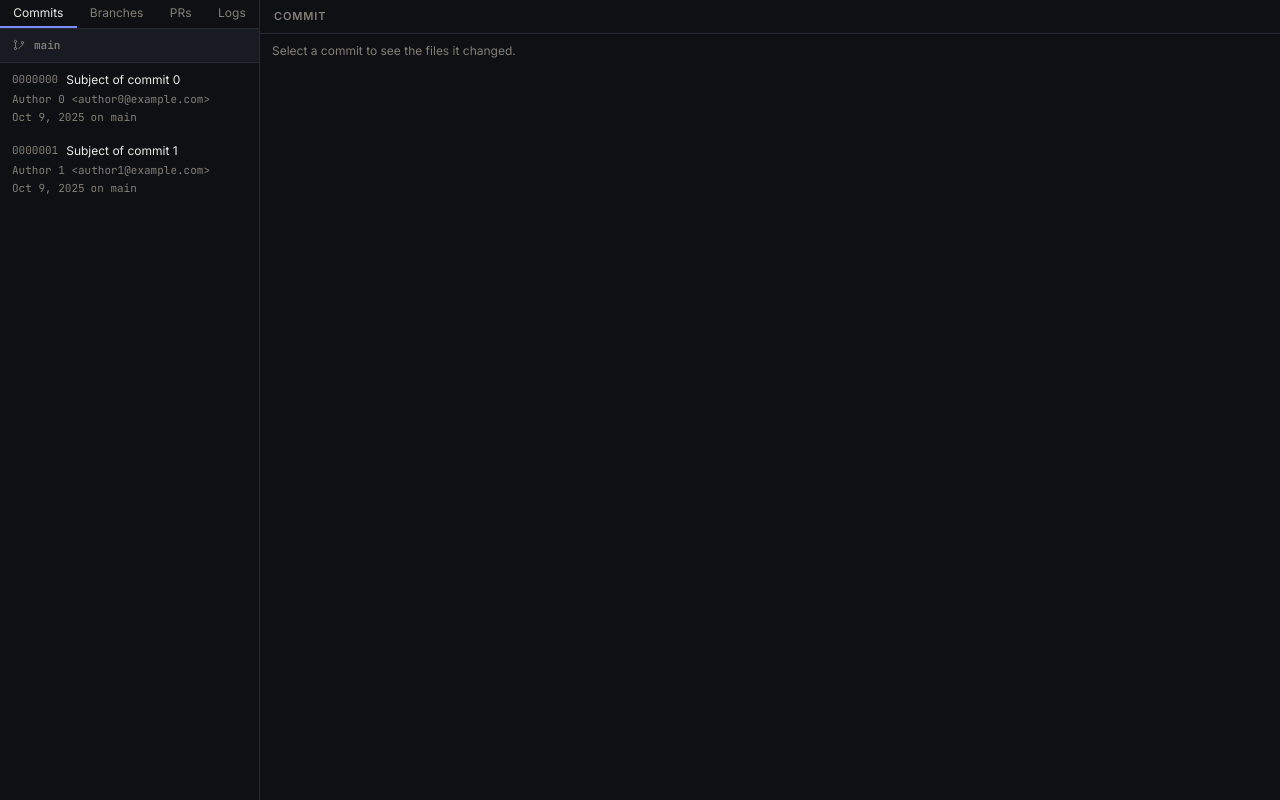
Test case: selecting a branch (GIT-FR-LNEI) › GIT-FR-LNEI: the selection stays while the Local / Remote switch changes
Click the tab "Branches" at (117, 12), box [90, 5, 143, 20]
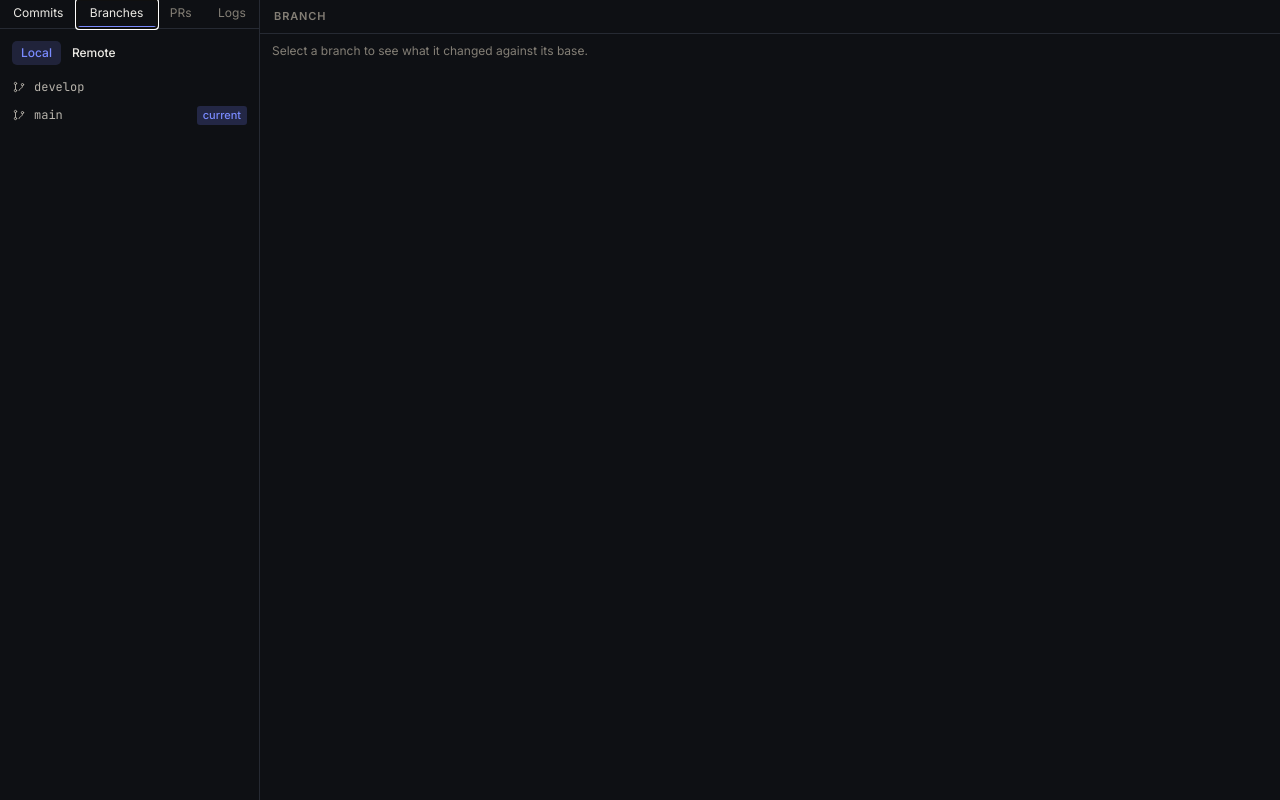
Now the text "develop" is shown, box [34, 79, 84, 95]
Click the button "develop" at (48, 87), box [12, 79, 84, 95]
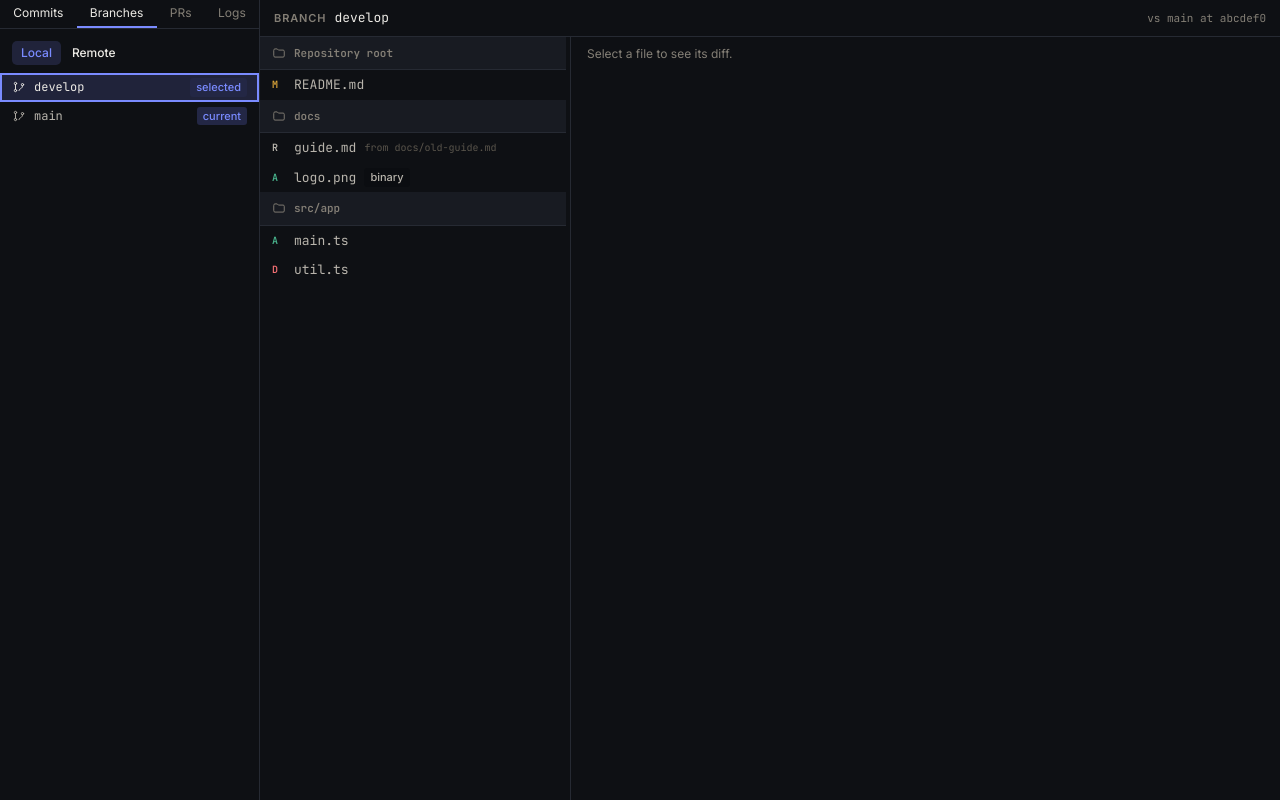
Now the element with test id "git-compare-head" is shown, box [260, 0, 1279, 36]
Click the radio button labelled "Remote" at (94, 53), box [63, 41, 124, 65]
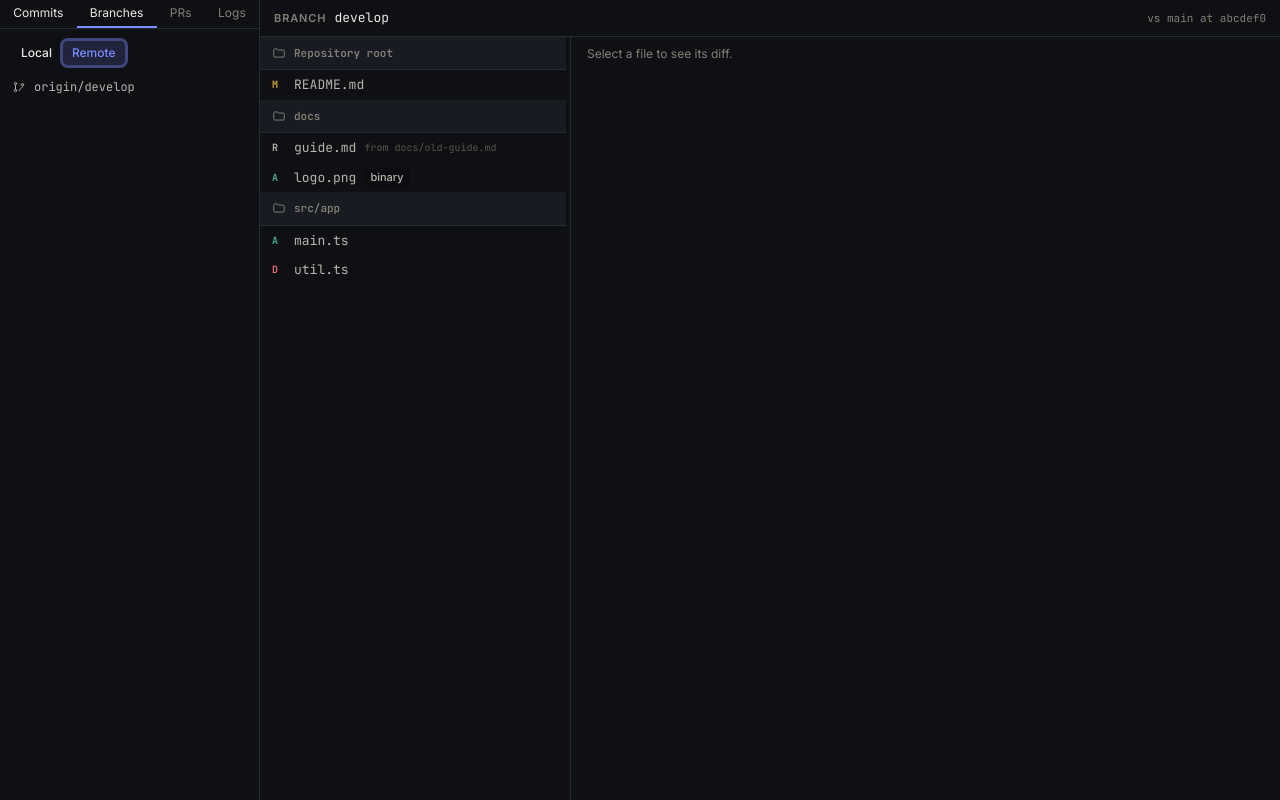
Now the element with test id "git-compare-head" shows "develop", box [334, 9, 389, 26]
Click the radio button labelled "Local" at (36, 53), box [12, 41, 61, 65]
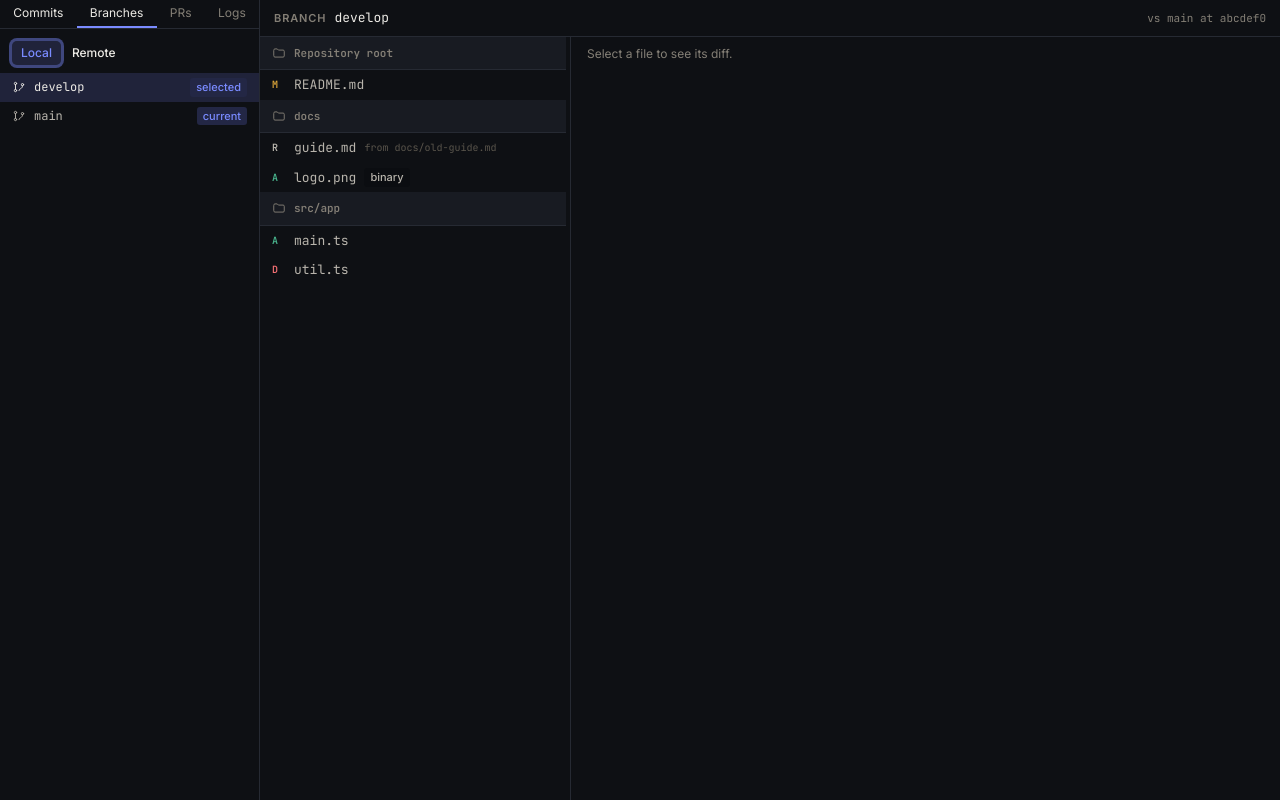
Now the button with test id "git-branch-selected" shows "develop", box [0, 73, 259, 102]
